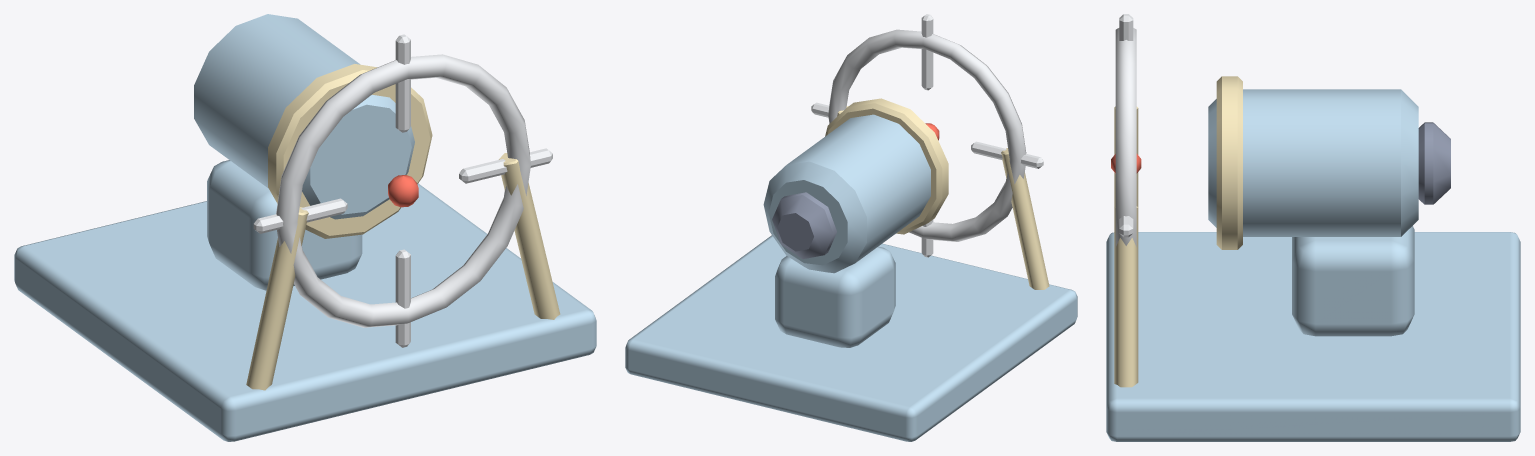
File: R4X_WeakPointScanner.glb
3 renders of one model, left to right at view 1: azimuth 30°, elevation 25°; view 2: azimuth 150°, elevation 25°; view 3: azimuth 270°, elevation 25°, orthographic. The views are drawn at different scales.
Visible parts, largest first — view 1: R4X_WeakPointScanner_Body; view 2: R4X_WeakPointScanner_Body; view 3: R4X_WeakPointScanner_Body.
Part boxes in pixels (left/top/right/bottom): R4X_WeakPointScanner_Body: left=14, top=14, right=596, bottom=441; R4X_WeakPointScanner_Body: left=625, top=14, right=1077, bottom=441; R4X_WeakPointScanner_Body: left=1106, top=14, right=1520, bottom=441.
Bounding box in the file's own units: 0.52 × 0.4757 × 0.52.
